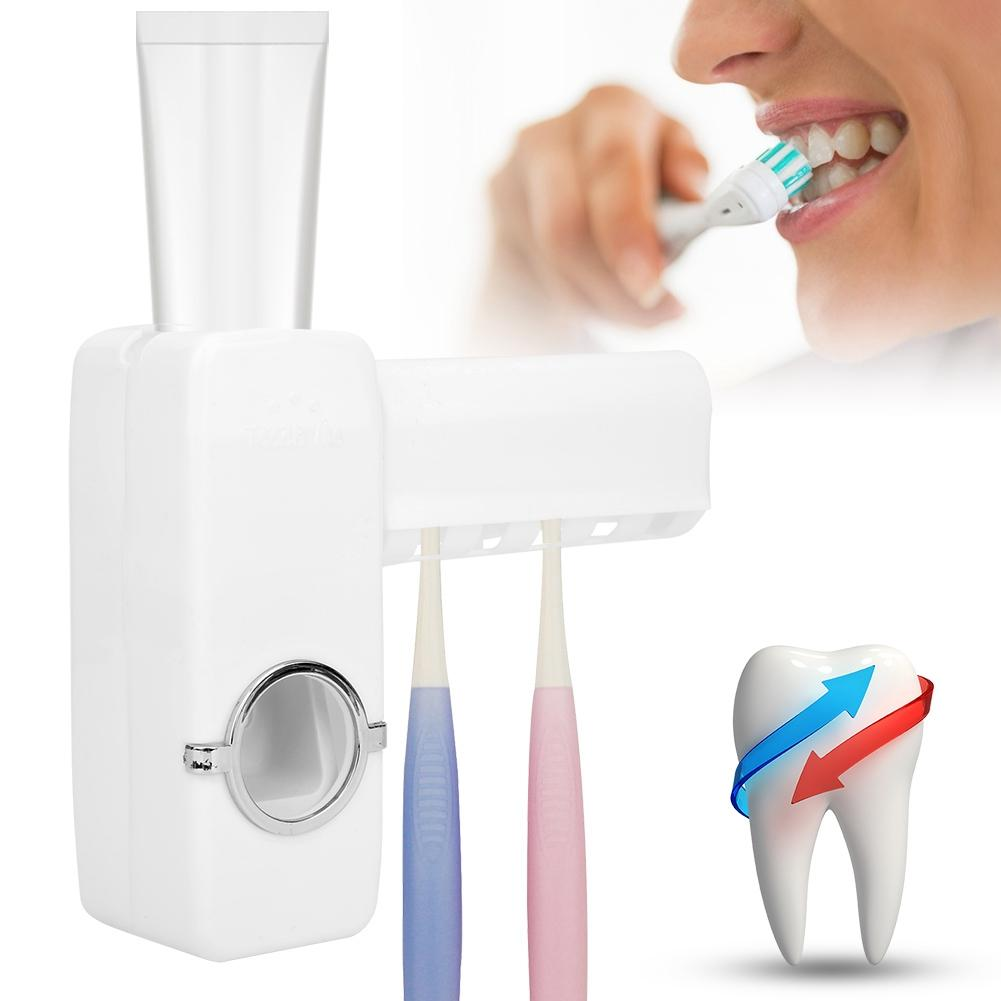toothpaste: (122, 0, 356, 348)
